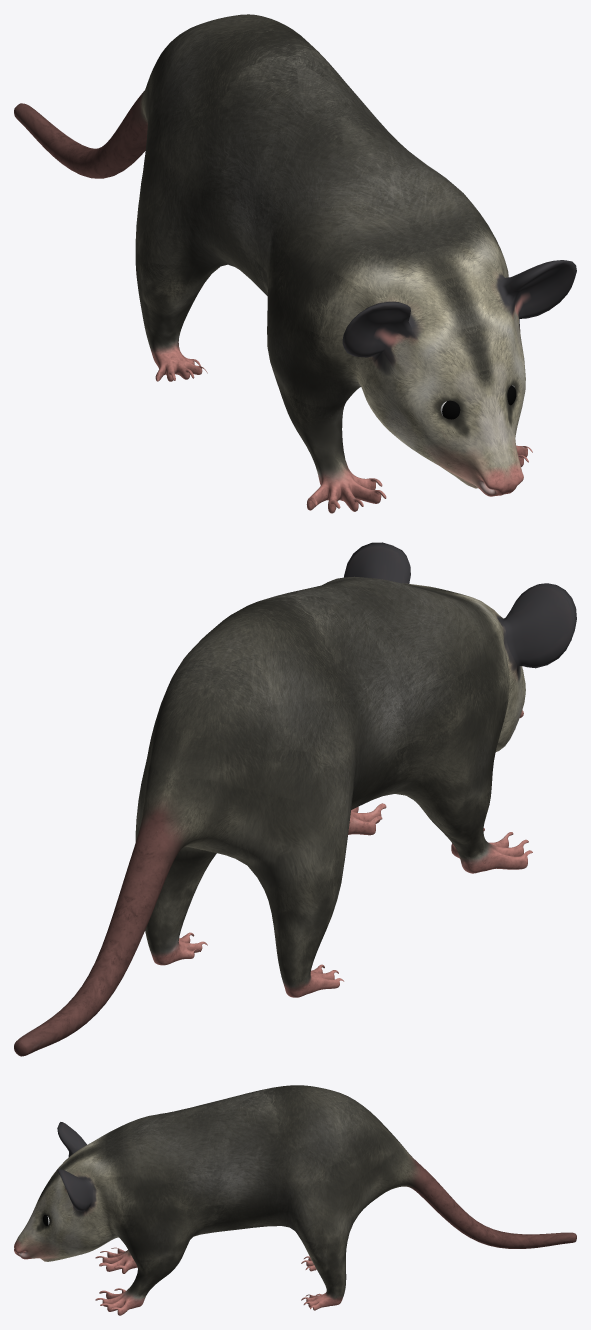
Rendered from tlacuache.glb.
3 views of the same model, one above another, from view 1: azimuth 30°, elevation 25°; view 2: azimuth 150°, elevation 25°; view 3: azimuth 270°, elevation 25° (orthographic). The views are drawn at different scales.
Visible parts, largest first — view 1: Didelphis virginiana; view 2: Didelphis virginiana; view 3: Didelphis virginiana.
Part boxes in pixels (box(x1,y1,x2,y2)): Didelphis virginiana: box(14, 14, 576, 513); Didelphis virginiana: box(14, 542, 576, 1056); Didelphis virginiana: box(14, 1085, 576, 1315).
Size of the model in its own units: 3.09 by 4.4 by 11.37.
Materials: 2 (2 with a texture image).
